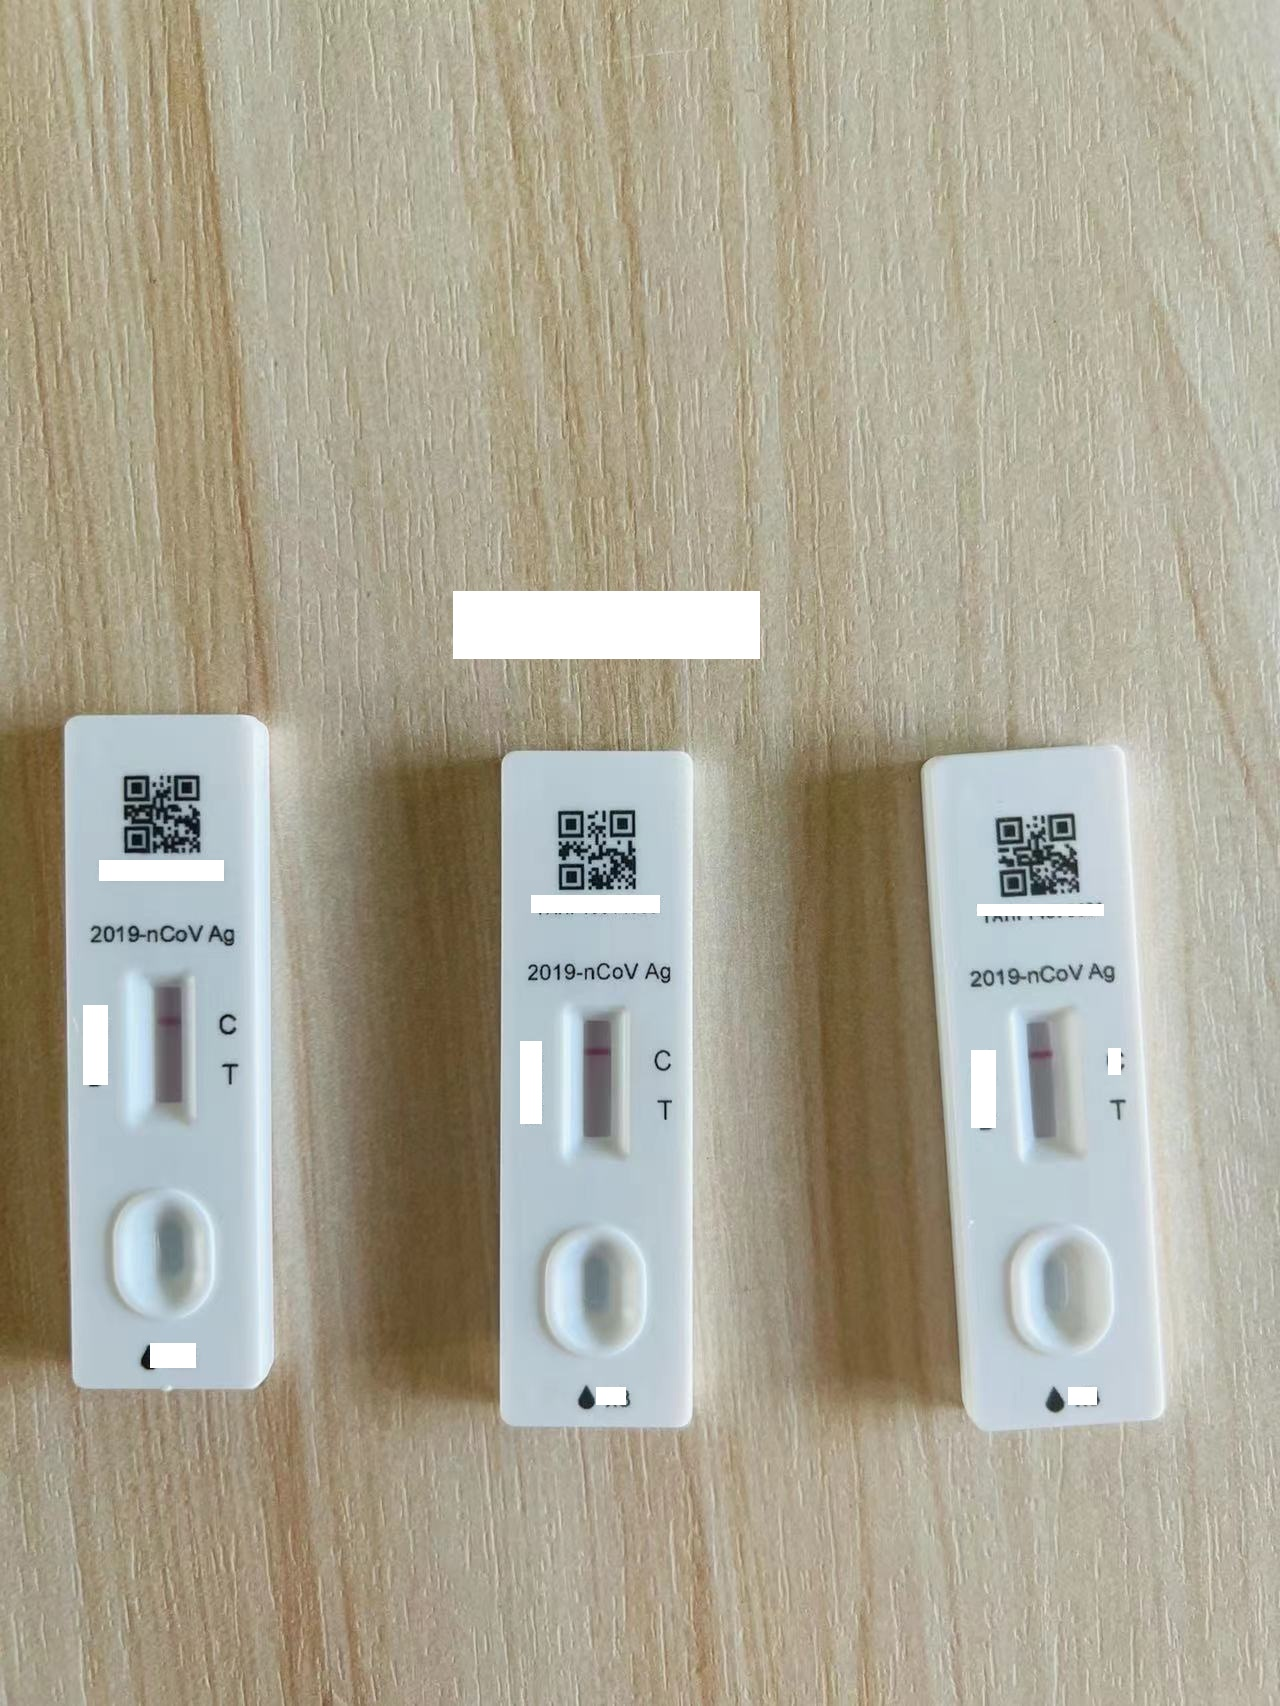negative: (125, 968, 198, 1131), (562, 1002, 632, 1168), (1012, 1002, 1082, 1166)
